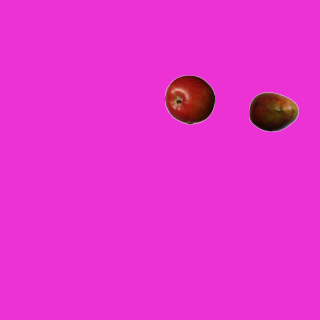Apple Braeburn: (164, 74, 214, 124)
Mango Red: (248, 86, 298, 136)
